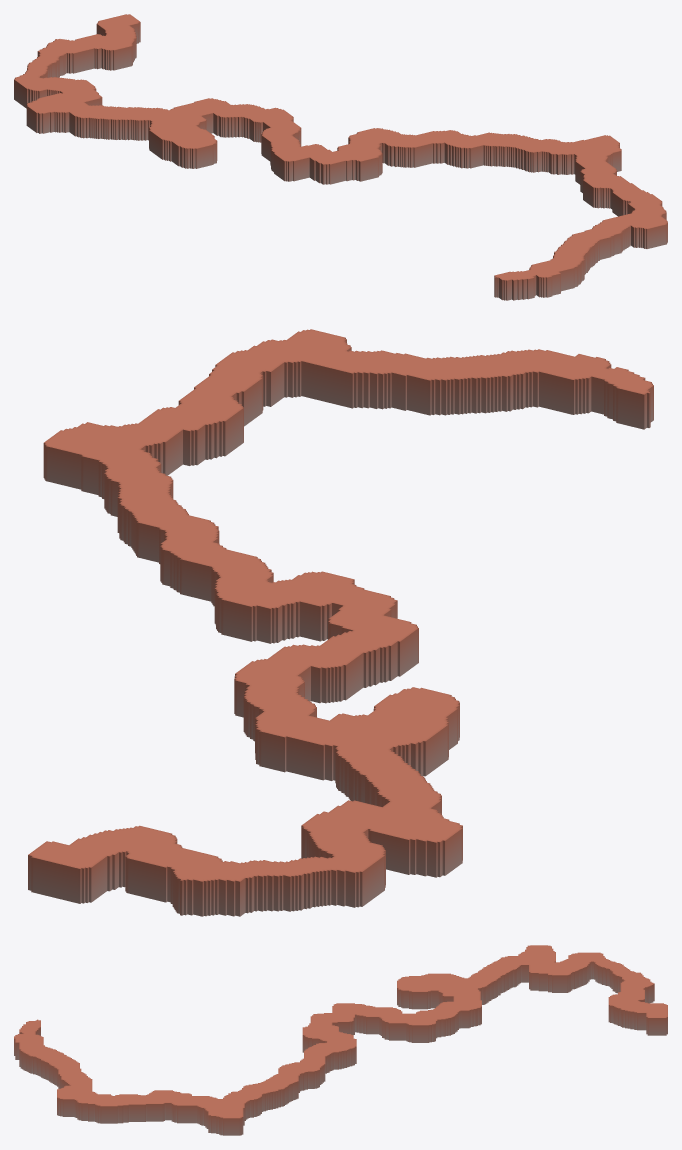
Rendered from model_gpx_insert_flat_fit.glb.
The picture shows the model from 3 angles, top to bottom: view 1: azimuth 30°, elevation 25°; view 2: azimuth 150°, elevation 25°; view 3: azimuth 270°, elevation 25°; orthographic projection. The views are drawn at different scales.
Visible parts, largest first — view 1: gpx_insert_flat_fit; view 2: gpx_insert_flat_fit; view 3: gpx_insert_flat_fit.
Part boxes in pixels (x1=…): gpx_insert_flat_fit: x1=14, y1=14, x2=667, y2=300; gpx_insert_flat_fit: x1=28, y1=329, x2=653, y2=916; gpx_insert_flat_fit: x1=14, y1=945, x2=667, y2=1135.
Size of the model in its own units: 59.38 by 2.8 by 94.85.
